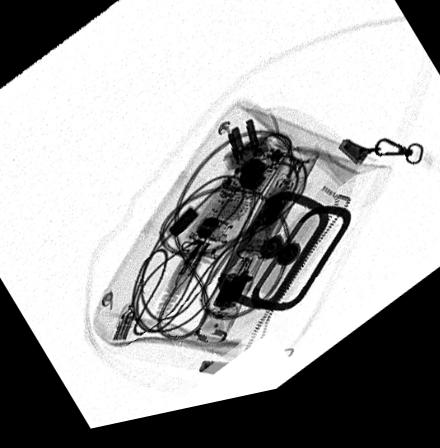Baton: (193, 158, 319, 353)
